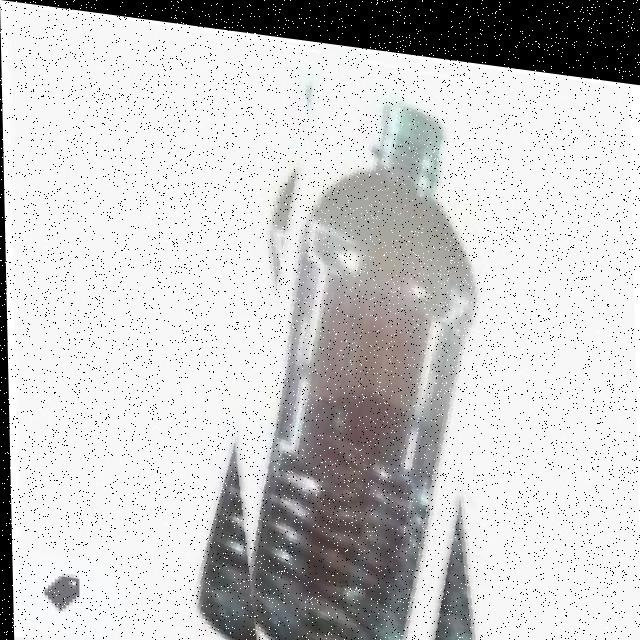litter: (189, 20, 491, 640), (276, 44, 397, 163)
